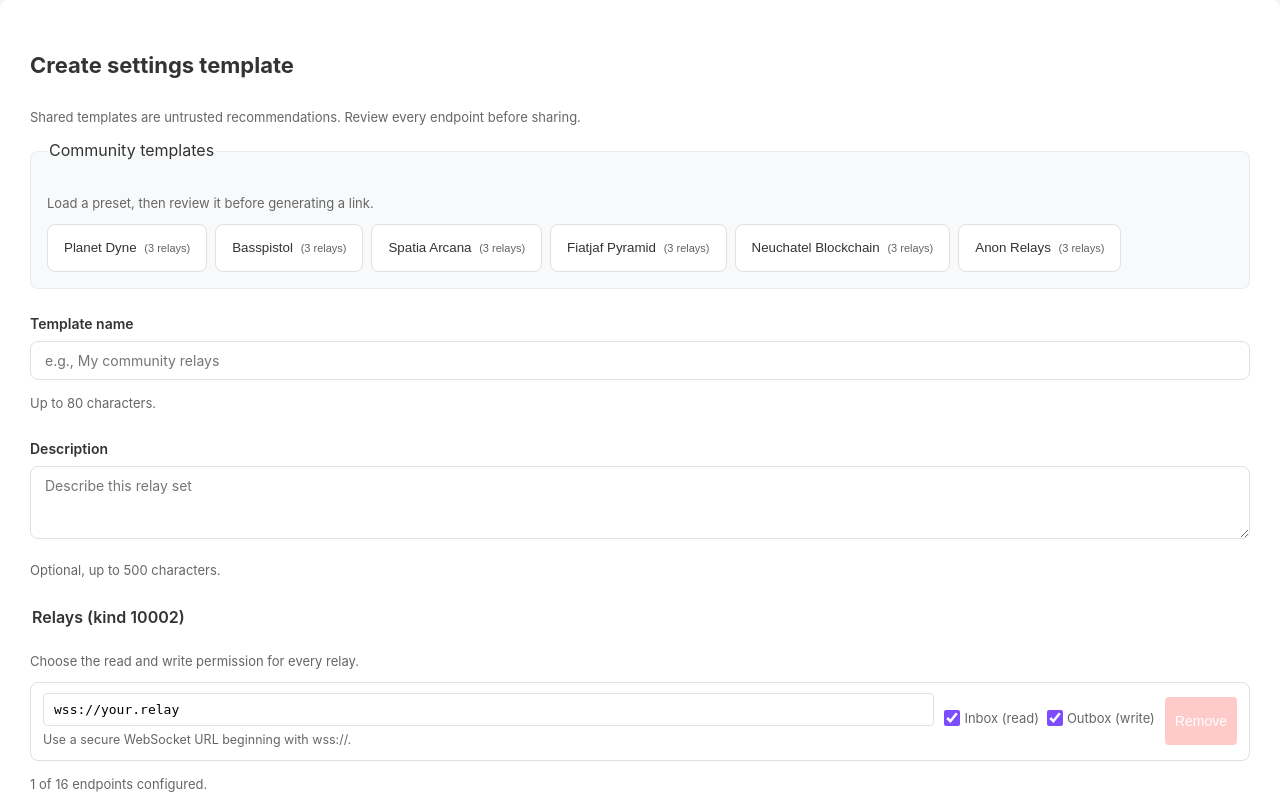
Test: create-review-apply path › exposes bounded required fields and per-row accessible validation
Clear the field named "relay endpoint 1" at (489, 710), box x1=43 y1=693 x2=934 y2=726
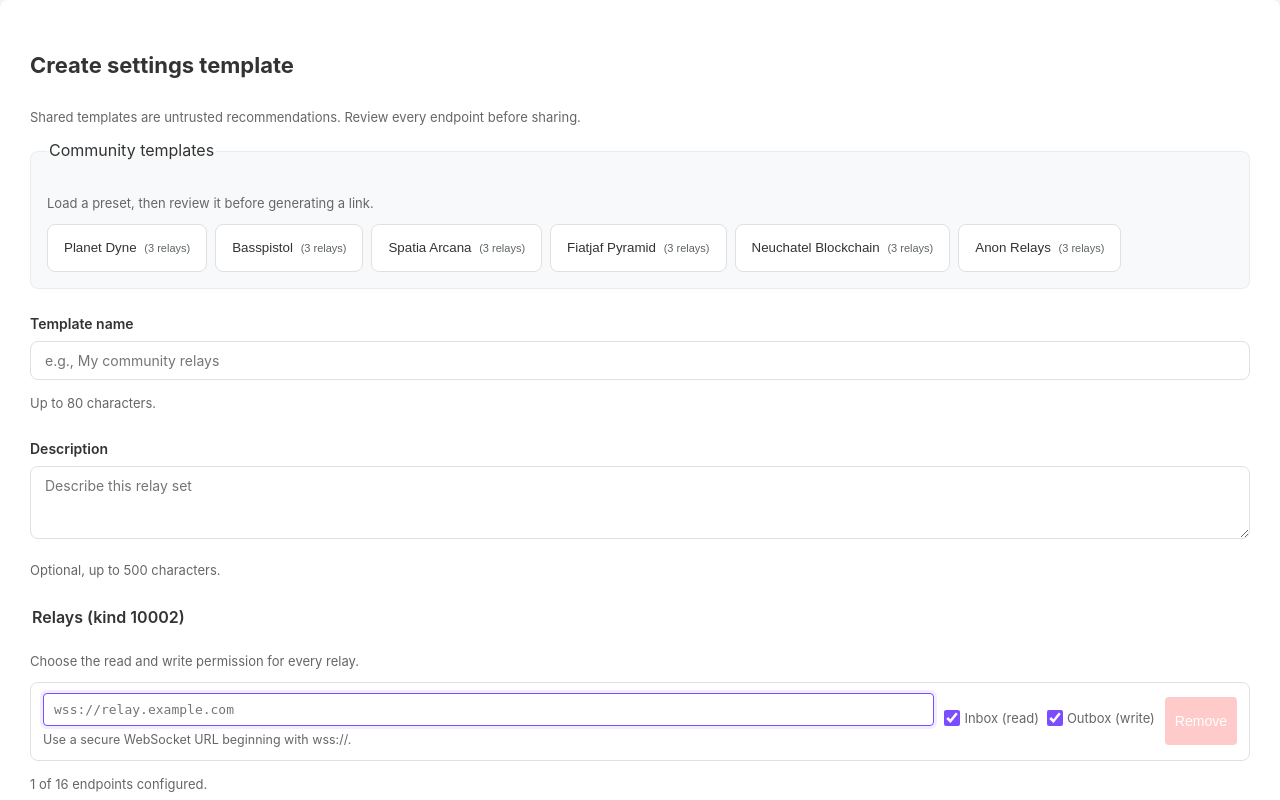
Press Tab
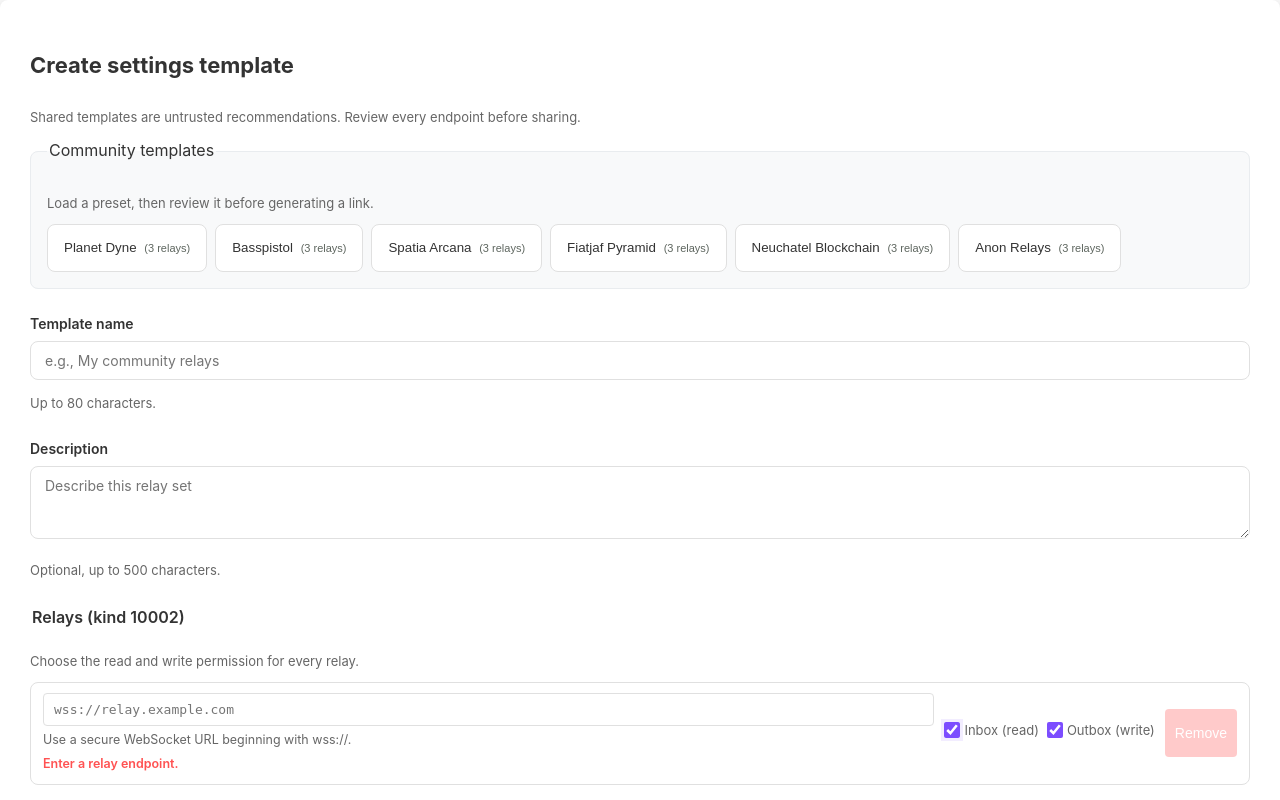
Check: the message reads "Enter a relay endpoint.", box x1=43 y1=756 x2=178 y2=771
Type "wss://corrected.example" into the field named "relay endpoint 1" at (489, 710), box x1=43 y1=693 x2=934 y2=726
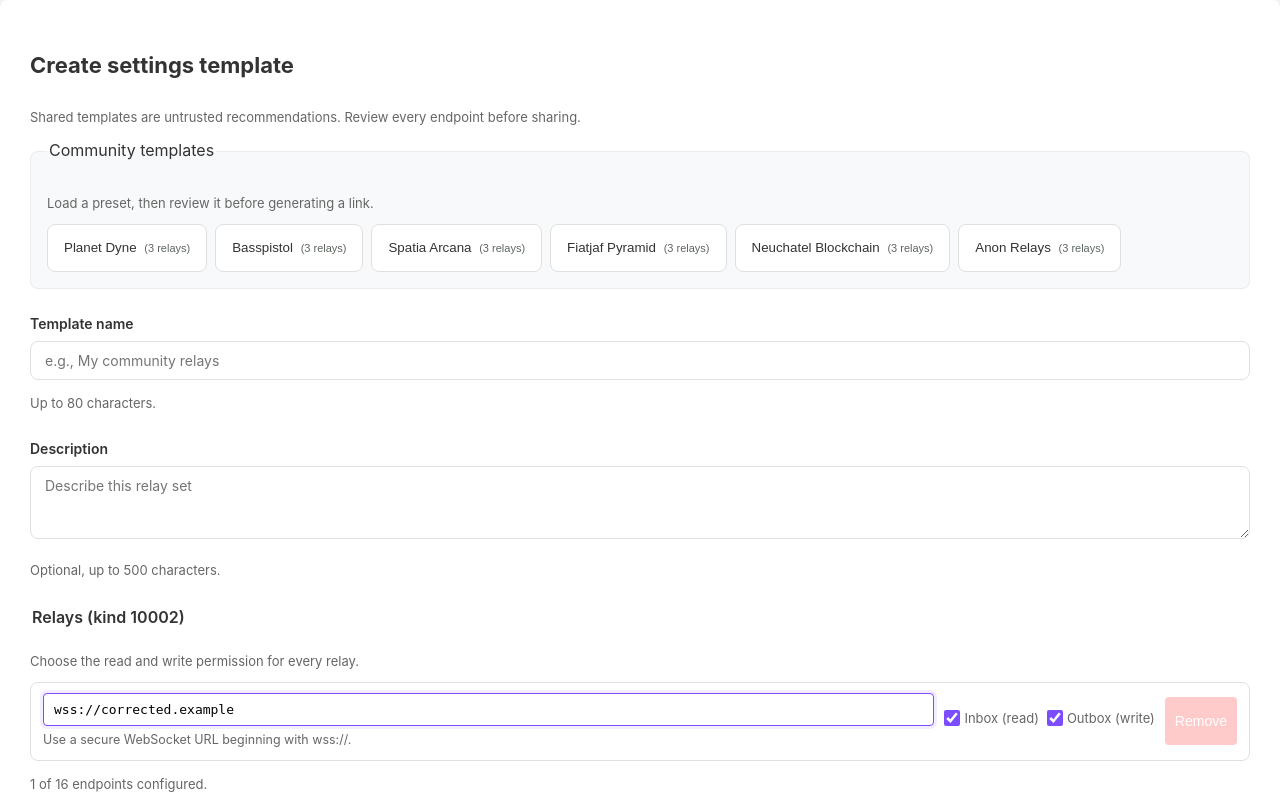
Check: the text "Enter a relay endpoint." is gone
